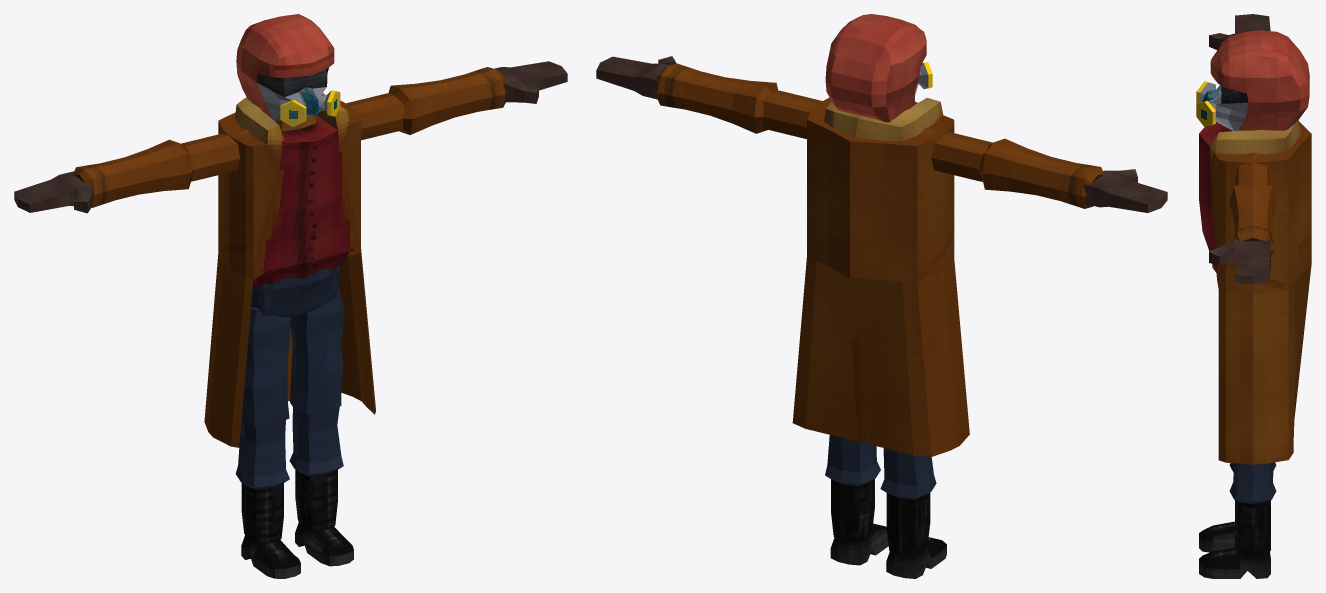
The model's file is outlaw.gltf.
3 views of the same model, side by side, from view 1: azimuth 30°, elevation 25°; view 2: azimuth 150°, elevation 25°; view 3: azimuth 270°, elevation 25° (orthographic). The views are drawn at different scales.
Visible parts, largest first — view 1: chest, head, left_upper_leg, right_lower_leg, left_lower_leg, right_upper_leg, right_lower_arm, left_lower_arm, hips, right_hand, left_hand, right_upper_arm (+3 smaller); view 2: chest, head, right_lower_arm, left_lower_arm, right_lower_leg, left_lower_leg, right_hand, right_upper_arm, left_hand, left_upper_arm, right_foot, left_foot; view 3: chest, head, left_lower_leg, left_lower_arm, left_hand, left_foot, right_foot, right_hand, left_upper_arm.
Part boxes in pixels (bbox=[...]): chest: bbox=[204, 93, 375, 447]; head: bbox=[236, 14, 340, 126]; left_upper_leg: bbox=[290, 288, 344, 414]; right_lower_leg: bbox=[235, 420, 289, 544]; left_lower_leg: bbox=[289, 406, 343, 531]; right_upper_leg: bbox=[241, 306, 290, 426]; right_lower_arm: bbox=[73, 139, 194, 207]; left_lower_arm: bbox=[388, 67, 506, 134]; hips: bbox=[251, 265, 339, 317]; right_hand: bbox=[14, 171, 93, 213]; left_hand: bbox=[494, 61, 567, 103]; right_upper_arm: bbox=[181, 128, 249, 181]; chest: bbox=[792, 97, 969, 456]; head: bbox=[825, 14, 932, 122]; right_lower_arm: bbox=[979, 138, 1104, 208]; left_lower_arm: bbox=[655, 63, 778, 133]; right_lower_leg: bbox=[880, 448, 936, 556]; left_lower_leg: bbox=[825, 435, 880, 543]; right_hand: bbox=[1083, 169, 1167, 212]; right_upper_arm: bbox=[920, 127, 992, 181]; left_hand: bbox=[596, 56, 676, 99]; left_upper_arm: bbox=[762, 90, 828, 138]; right_foot: bbox=[886, 537, 946, 578]; left_foot: bbox=[830, 523, 888, 565]; chest: bbox=[1199, 120, 1311, 464]; head: bbox=[1196, 30, 1309, 130]; left_lower_leg: bbox=[1229, 462, 1276, 557]; left_lower_arm: bbox=[1229, 182, 1276, 256]; left_hand: bbox=[1209, 239, 1270, 284]; left_foot: bbox=[1199, 547, 1270, 578]; right_foot: bbox=[1199, 521, 1234, 552]; right_hand: bbox=[1209, 14, 1270, 49]; left_upper_arm: bbox=[1235, 152, 1270, 185].
Size of the model in its own units: 2.15 by 1.99 by 0.3995.
Materials: 10 (10 with a texture image).
